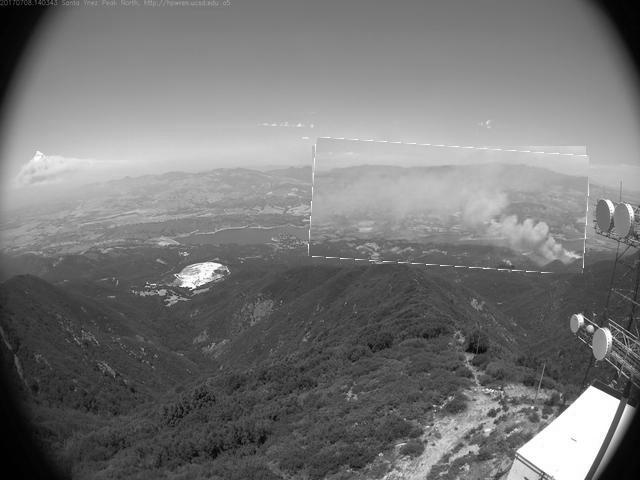smoke: (311, 143, 590, 271)
